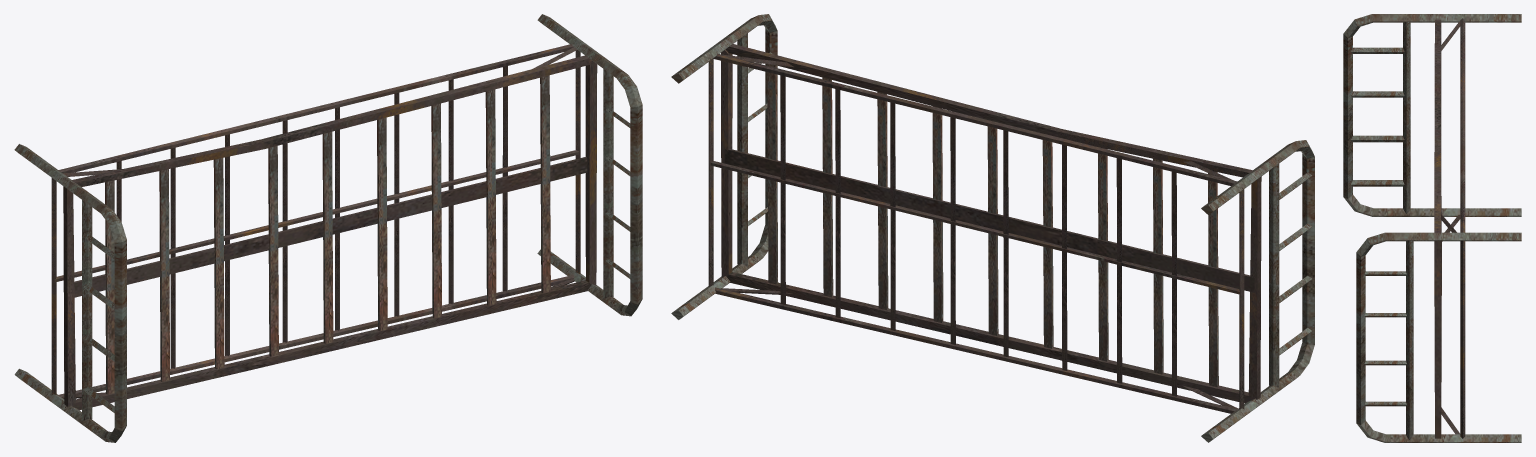
The model's file is bed.dae.
3 renders of one model, left to right at view 1: azimuth 30°, elevation 25°; view 2: azimuth 150°, elevation 25°; view 3: azimuth 270°, elevation 25°, orthographic. The views are drawn at different scales.
Parts seen in each view (by area): view 1: bed; view 2: bed; view 3: bed.
Boxes of the visible parts, bbox=[...] form: bed: bbox=[14, 14, 642, 442]; bed: bbox=[671, 14, 1314, 442]; bed: bbox=[1343, 14, 1521, 442].
Bounding box in the file's own units: 8.9 × 2.97 × 3.87.
